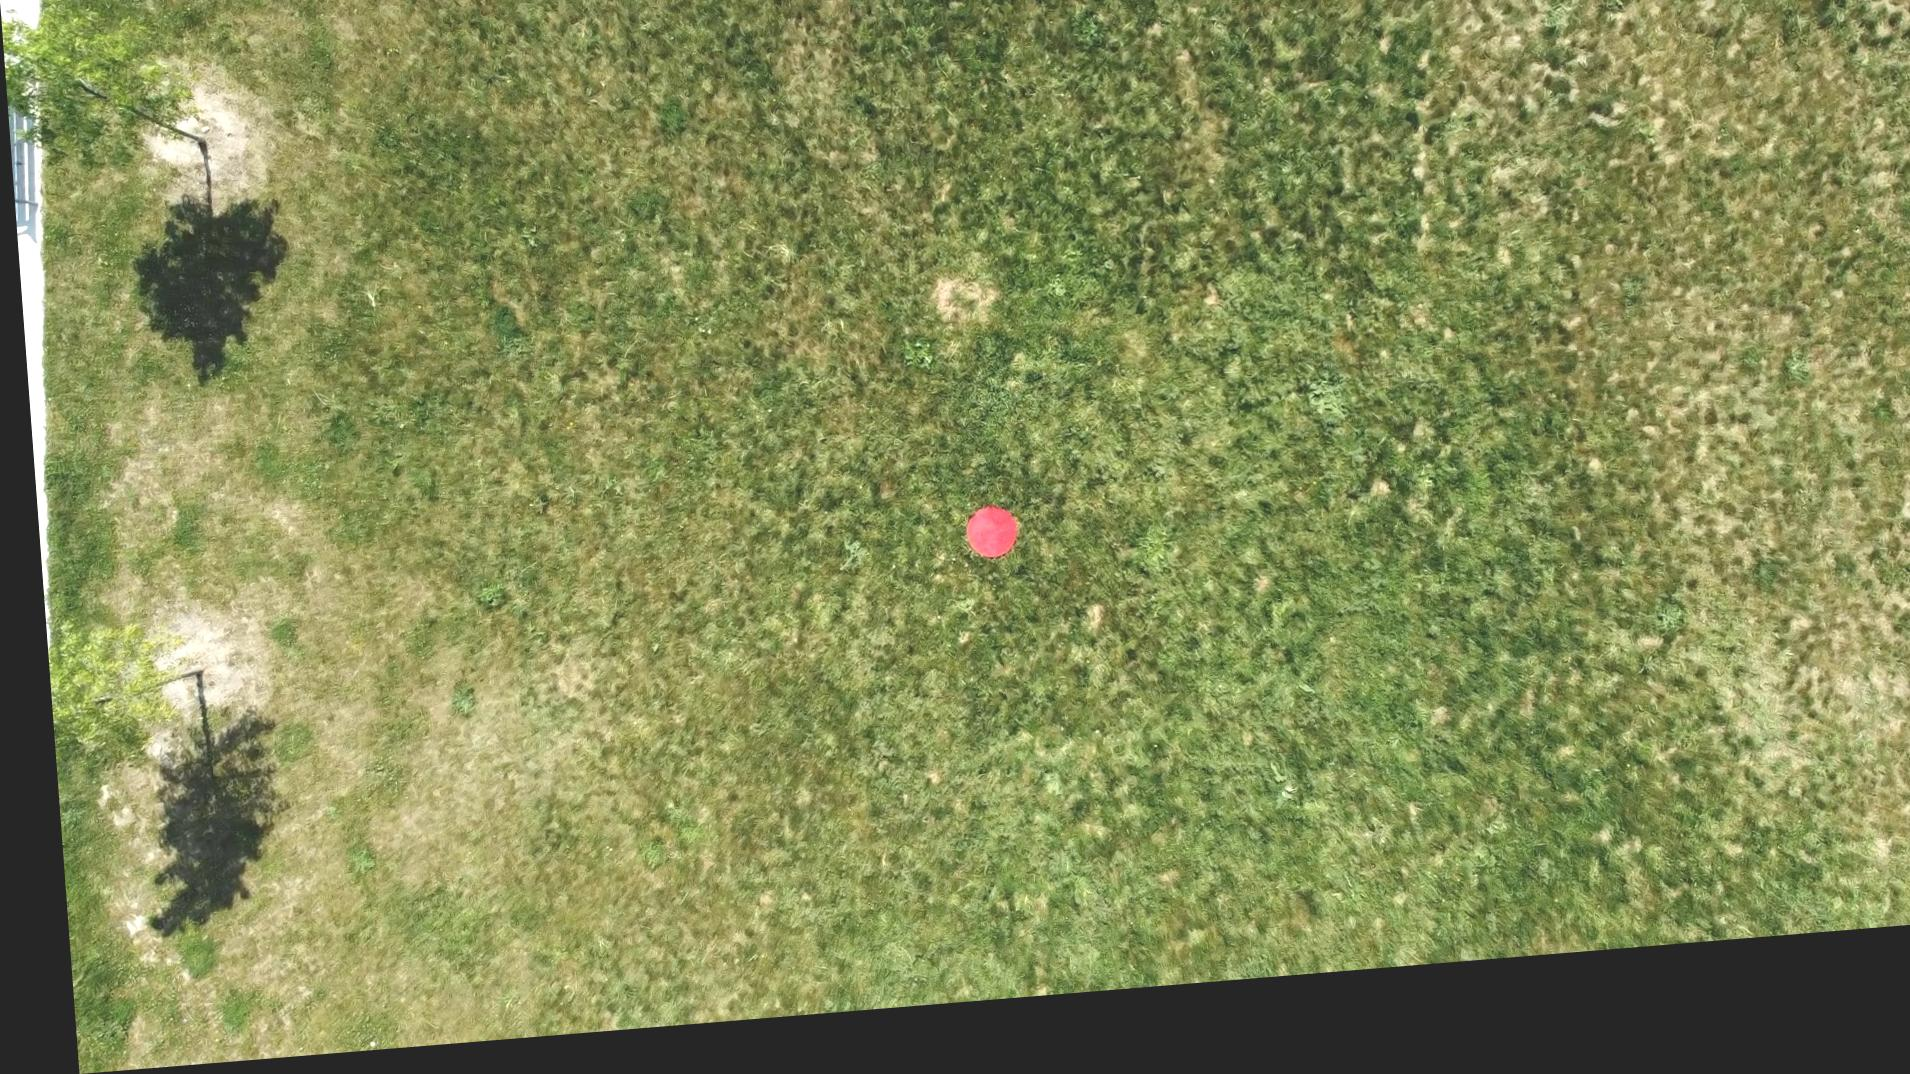Red: (955, 519, 1011, 578)
